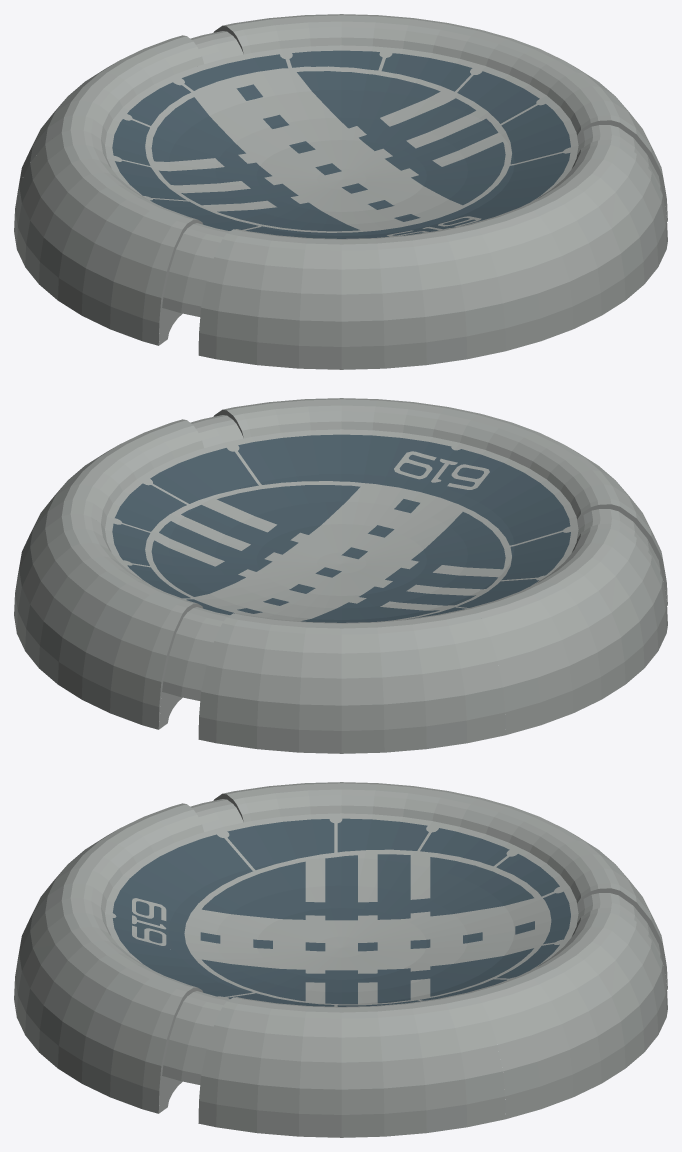
The picture shows the model from 3 angles, top to bottom: view 1: azimuth 30°, elevation 25°; view 2: azimuth 150°, elevation 25°; view 3: azimuth 270°, elevation 25°; orthographic projection.
Parts seen in each view (by area): view 1: world; view 2: world; view 3: world.
Boxes of the visible parts, <box> form: world: <box>14,14,667,369</box>; world: <box>14,398,667,753</box>; world: <box>14,782,667,1137</box>.
Bounding box in the file's own units: 0.04 × 0.00683 × 0.0399.
